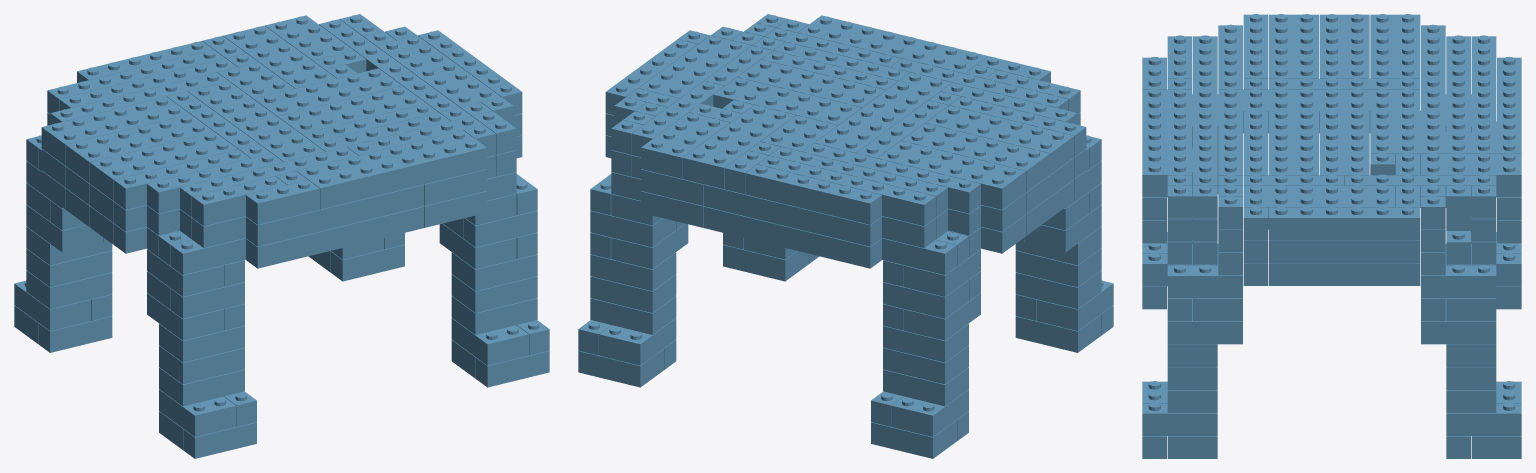
The model's file is 229_table_L4.glb.
3 renders of one model, left to right at view 1: azimuth 30°, elevation 25°; view 2: azimuth 150°, elevation 25°; view 3: azimuth 270°, elevation 25°, orthographic. The views are drawn at different scales.
Size of the model in its own units: 18.98 by 11.13 by 14.98.
